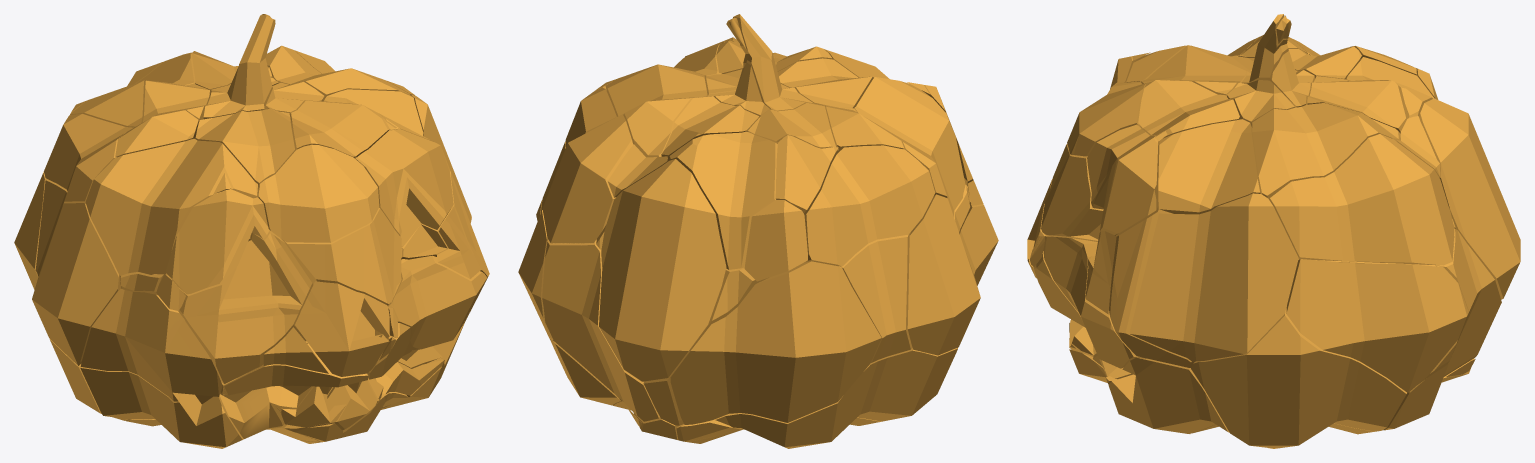
Rendered from pumpkin-carved-c broken.fbx.
3 views of the same model, side by side, from view 1: azimuth 30°, elevation 25°; view 2: azimuth 150°, elevation 25°; view 3: azimuth 270°, elevation 25° (orthographic). The views are drawn at different scales.
Visible parts, largest first — view 1: pumpkin-carved-c_cell.039, pumpkin-carved-c_cell.048, pumpkin-carved-c_cell.037, pumpkin-carved-c_cell.059, pumpkin-carved-c_cell.013, pumpkin-carved-c_cell.054, pumpkin-carved-c_cell.021, pumpkin-carved-c_cell.066, pumpkin-carved-c_cell.003, pumpkin-carved-c_cell.046, pumpkin-carved-c_cell.018, pumpkin-carved-c_cell.040 (+27 smaller); view 2: pumpkin-carved-c_cell.061, pumpkin-carved-c_cell.047, pumpkin-carved-c_cell.017, pumpkin-carved-c_cell.058, pumpkin-carved-c_cell, pumpkin-carved-c_cell.063, pumpkin-carved-c_cell.013, pumpkin-carved-c_cell.023, pumpkin-carved-c_cell.039, pumpkin-carved-c_cell.069, pumpkin-carved-c_cell.019, pumpkin-carved-c_cell.015 (+19 smaller); view 3: pumpkin-carved-c_cell.045, pumpkin-carved-c_cell, pumpkin-carved-c_cell.079, pumpkin-carved-c_cell.082, pumpkin-carved-c_cell.047, pumpkin-carved-c_cell.019, pumpkin-carved-c_cell.064, pumpkin-carved-c_cell.054, pumpkin-carved-c_cell.081, pumpkin-carved-c_cell.046, pumpkin-carved-c_cell.030, pumpkin-carved-c_cell.063 (+18 smaller).
Part boxes in pixels (x1,y1,x2,y2): pumpkin-carved-c_cell.039: [85, 138, 258, 275]; pumpkin-carved-c_cell.048: [178, 229, 313, 384]; pumpkin-carved-c_cell.037: [81, 288, 222, 401]; pumpkin-carved-c_cell.059: [258, 144, 379, 242]; pumpkin-carved-c_cell.013: [32, 203, 120, 365]; pumpkin-carved-c_cell.054: [354, 128, 453, 246]; pumpkin-carved-c_cell.021: [165, 189, 268, 294]; pumpkin-carved-c_cell.066: [295, 281, 389, 376]; pumpkin-carved-c_cell.003: [80, 367, 243, 448]; pumpkin-carved-c_cell.046: [387, 255, 487, 368]; pumpkin-carved-c_cell.018: [280, 208, 402, 305]; pumpkin-carved-c_cell.040: [192, 108, 296, 189]; pumpkin-carved-c_cell.061: [670, 261, 881, 424]; pumpkin-carved-c_cell.047: [599, 159, 726, 381]; pumpkin-carved-c_cell.017: [804, 145, 935, 266]; pumpkin-carved-c_cell.058: [715, 348, 957, 447]; pumpkin-carved-c_cell: [542, 87, 633, 243]; pumpkin-carved-c_cell.063: [542, 239, 659, 421]; pumpkin-carved-c_cell.013: [907, 194, 980, 355]; pumpkin-carved-c_cell.023: [667, 131, 777, 269]; pumpkin-carved-c_cell.039: [854, 77, 966, 217]; pumpkin-carved-c_cell.069: [838, 232, 912, 362]; pumpkin-carved-c_cell.019: [605, 64, 708, 157]; pumpkin-carved-c_cell.015: [744, 200, 807, 281]; pumpkin-carved-c_cell.045: [1129, 193, 1298, 362]; pumpkin-carved-c_cell: [1270, 134, 1454, 265]; pumpkin-carved-c_cell.079: [1286, 259, 1468, 392]; pumpkin-carved-c_cell.082: [1191, 306, 1406, 448]; pumpkin-carved-c_cell.047: [1419, 98, 1520, 299]; pumpkin-carved-c_cell.019: [1252, 103, 1400, 201]; pumpkin-carved-c_cell.064: [1158, 119, 1262, 214]; pumpkin-carved-c_cell.054: [1087, 124, 1159, 234]; pumpkin-carved-c_cell.081: [1108, 357, 1229, 433]; pumpkin-carved-c_cell.046: [1043, 236, 1146, 379]; pumpkin-carved-c_cell.030: [1109, 206, 1194, 367]; pumpkin-carved-c_cell.063: [1298, 229, 1501, 393].
Bounding box in the file's own units: 61.49 × 54.03 × 61.49.
